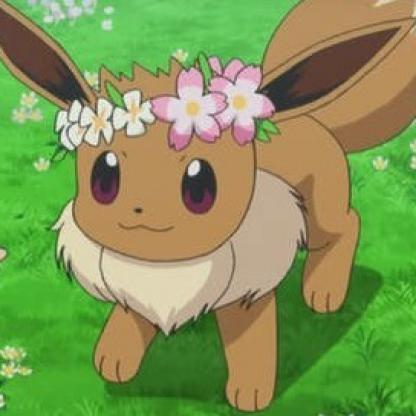Eevee: (1, 1, 416, 391)
